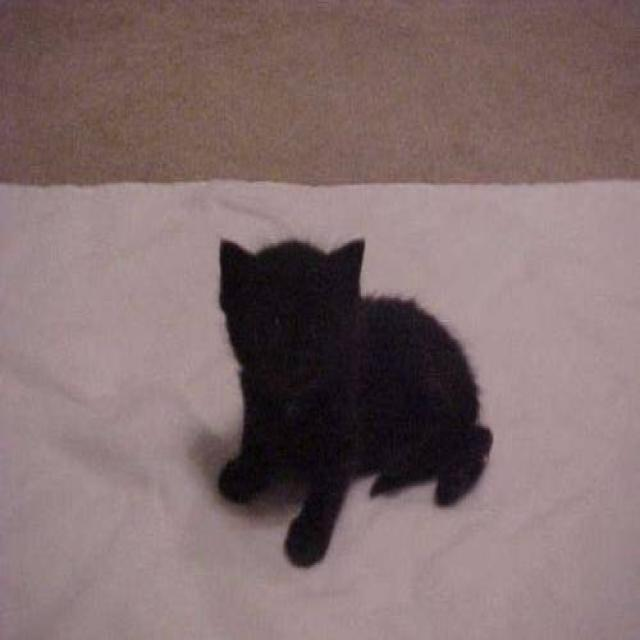cat: (215, 235, 493, 568)
